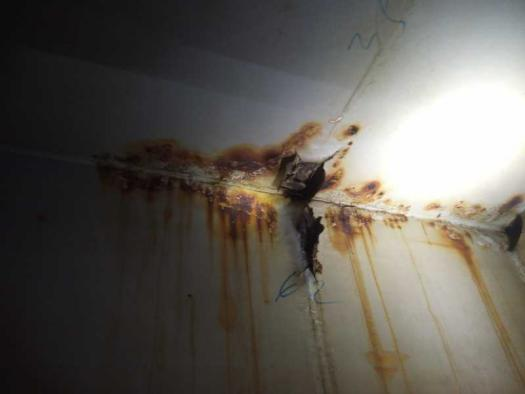corrosion: (443, 223, 524, 394), (328, 206, 392, 393), (278, 144, 332, 297), (187, 182, 279, 260), (209, 119, 309, 182), (106, 124, 206, 175), (339, 177, 386, 201), (341, 118, 369, 140)
